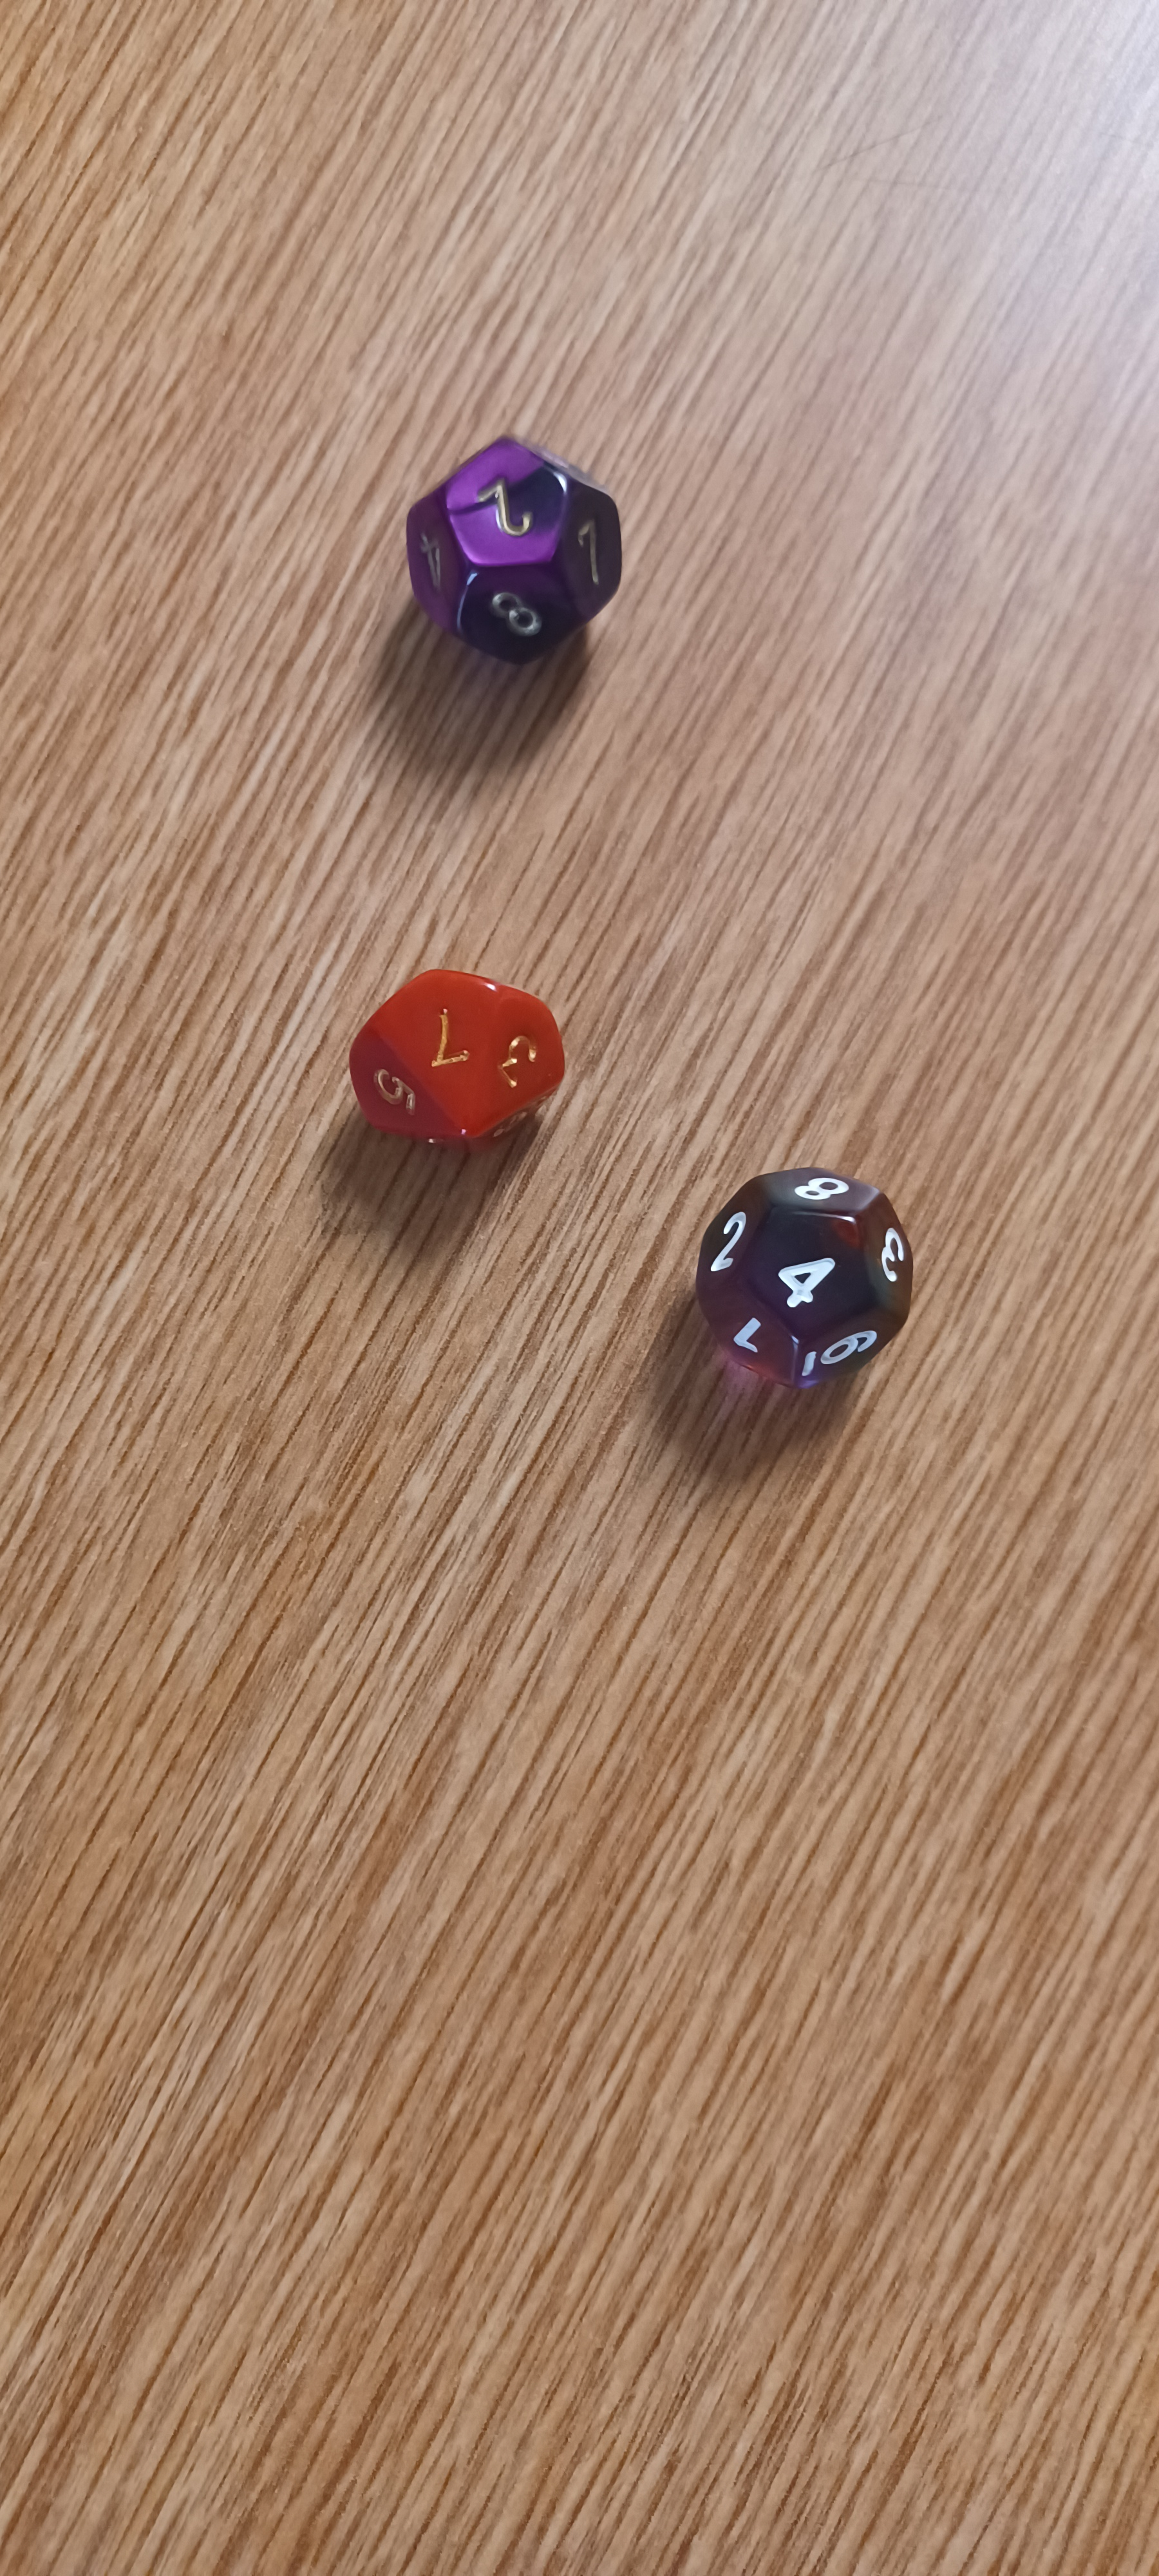four: (673, 1142, 951, 1416)
seven: (309, 927, 606, 1212)
two: (325, 398, 678, 683)
